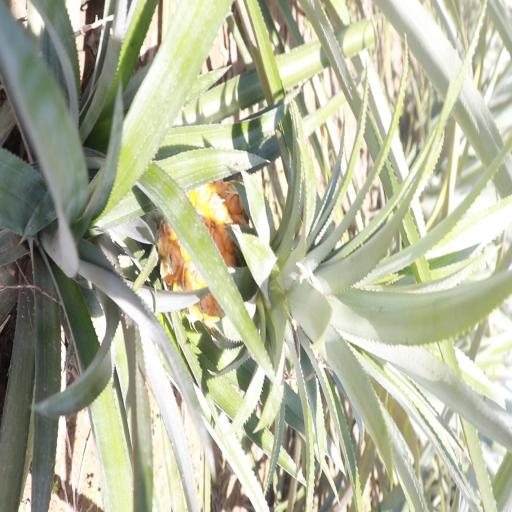Pineapple - v8 v1: (163, 184, 381, 365)
